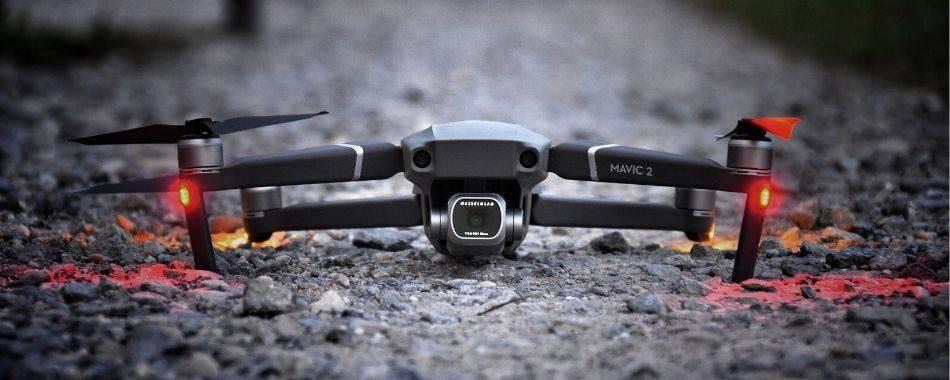drone_other: (60, 109, 806, 288)
